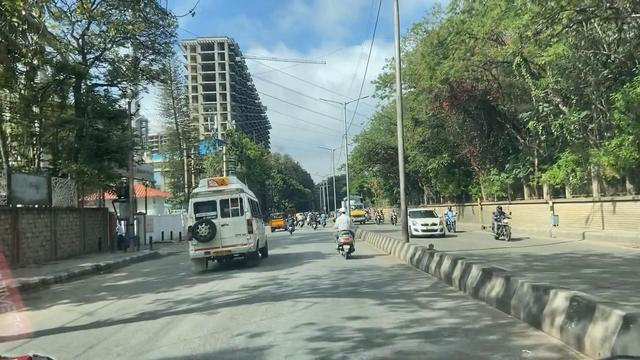HMV: (187, 180, 270, 277)
LMV: (333, 212, 360, 259)
